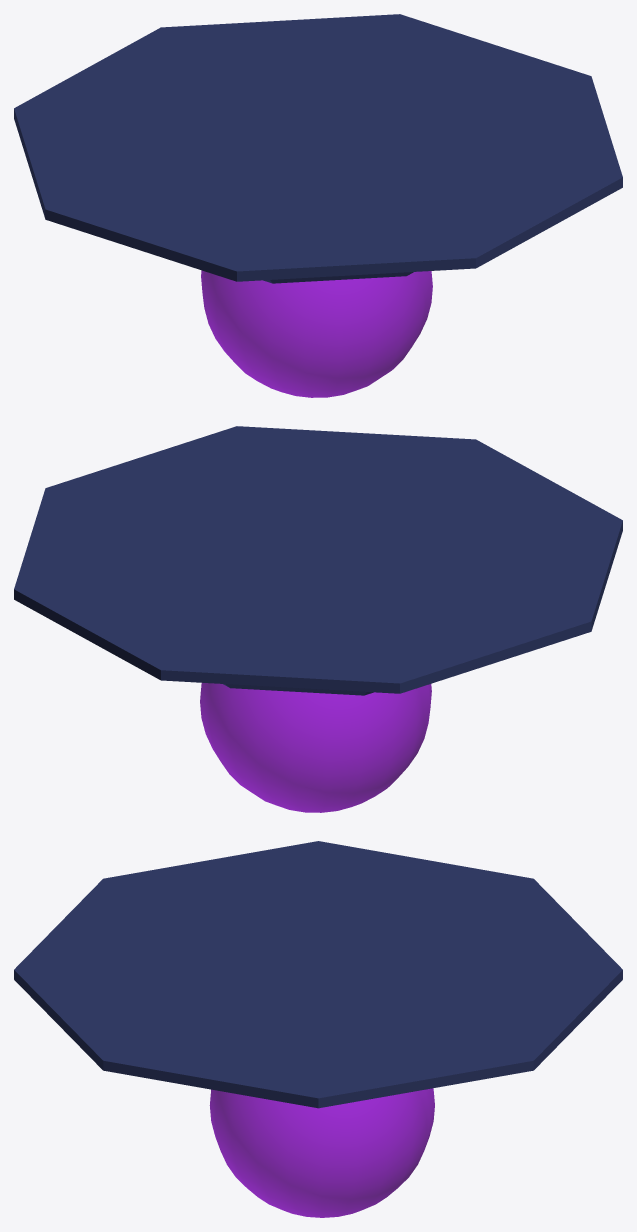
Rendered from topLight.fbx.
3 renders of one model, top to bottom at view 1: azimuth 30°, elevation 25°; view 2: azimuth 150°, elevation 25°; view 3: azimuth 270°, elevation 25°, orthographic. The views are drawn at different scales.
Parts seen in each view (by area): view 1: top, Light; view 2: top, Light; view 3: top, Light.
Boxes of the visible parts, x1,y1,x2,y2 form: top: (14, 14, 622, 283); Light: (201, 270, 432, 397); top: (14, 426, 622, 695); Light: (200, 683, 431, 812); top: (14, 841, 622, 1108); Light: (209, 1088, 434, 1217).
Size of the model in its own units: 73.03 by 31.43 by 73.03.
